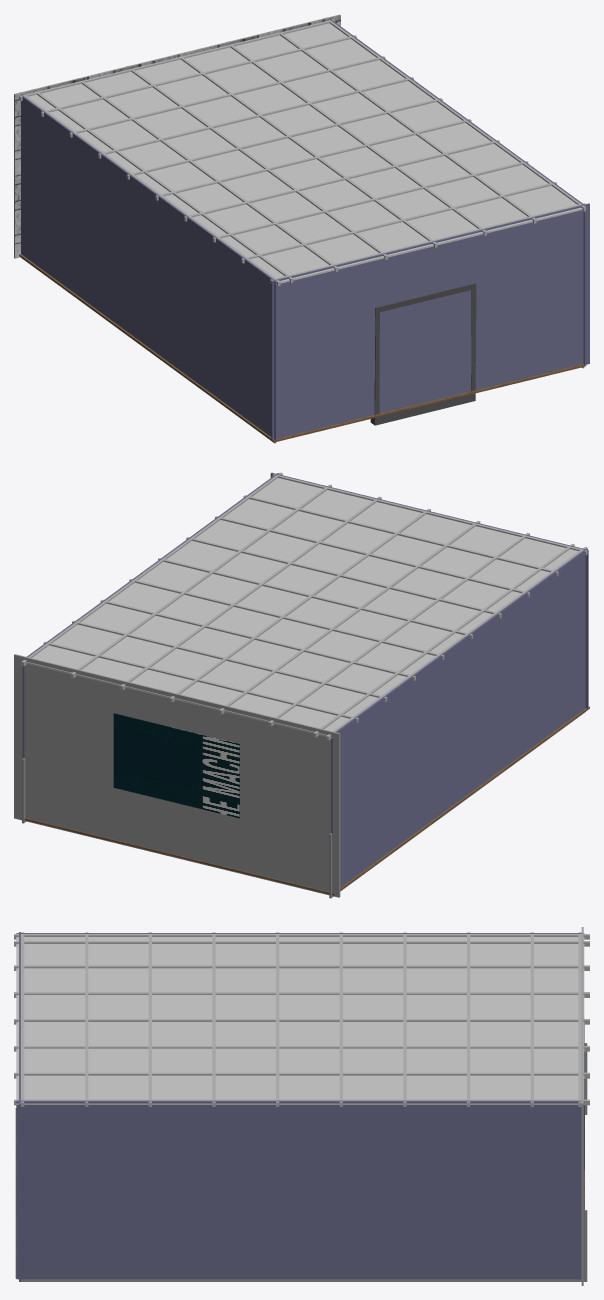
File: start room fbx new.fbx
The picture shows the model from 3 angles, top to bottom: view 1: azimuth 30°, elevation 25°; view 2: azimuth 150°, elevation 25°; view 3: azimuth 270°, elevation 25°; orthographic projection. The views are drawn at different scales.
Parts seen in each view (by area): view 1: pCube2, pCube5, pCube3, pasted__pCube29, pCube6, pCube1, pCube4, pCube7, pCube11, pCube9, pCube8, pCube10 (+13 smaller); view 2: pCube2, pCube6, pCube3, pCube34, pCube1, pCube11, pCube10, pCube8, pCube13, pCube7, pCube5, pCube9 (+12 smaller); view 3: pCube4, pCube2, pCube11, pCube7, pCube36, pCube8, pCube9, pCube10, pCube14, pCube13, pCube12, pCube6 (+12 smaller).
Part boxes in pixels (bbox=[...]): pCube2: bbox=[28, 23, 586, 284]; pCube5: bbox=[271, 203, 589, 441]; pCube3: bbox=[21, 95, 277, 440]; pasted__pCube29: bbox=[370, 283, 476, 425]; pCube6: bbox=[14, 14, 340, 258]; pCube1: bbox=[19, 254, 584, 442]; pCube4: bbox=[330, 20, 586, 366]; pCube7: bbox=[78, 78, 338, 271]; pCube11: bbox=[275, 29, 536, 223]; pCube9: bbox=[176, 54, 437, 247]; pCube8: bbox=[126, 66, 387, 259]; pCube10: bbox=[225, 41, 486, 235]; pCube2: bbox=[26, 478, 578, 737]; pCube6: bbox=[14, 654, 340, 897]; pCube3: bbox=[331, 548, 587, 893]; pCube34: bbox=[113, 713, 239, 818]; pCube1: bbox=[24, 706, 589, 895]; pCube11: bbox=[70, 484, 331, 678]; pCube10: bbox=[120, 496, 381, 690]; pCube8: bbox=[219, 521, 480, 714]; pCube13: bbox=[313, 543, 574, 737]; pCube7: bbox=[268, 533, 529, 726]; pCube5: bbox=[270, 472, 588, 709]; pCube9: bbox=[169, 508, 430, 702]; pCube4: bbox=[16, 1100, 584, 1279]; pCube2: bbox=[16, 937, 584, 1104]; pCube11: bbox=[14, 1072, 589, 1078]; pCube7: bbox=[14, 965, 589, 970]; pCube36: bbox=[21, 1210, 587, 1281]; pCube8: bbox=[14, 992, 589, 997]; pCube9: bbox=[14, 1019, 589, 1024]; pCube10: bbox=[14, 1046, 589, 1051]; pCube14: bbox=[14, 934, 589, 939]; pCube13: bbox=[14, 941, 589, 946]; pCube12: bbox=[14, 1099, 589, 1105]; pCube6: bbox=[581, 927, 583, 1285].
Bounding box in the file's own units: 21.38 × 10.74 × 29.45.
